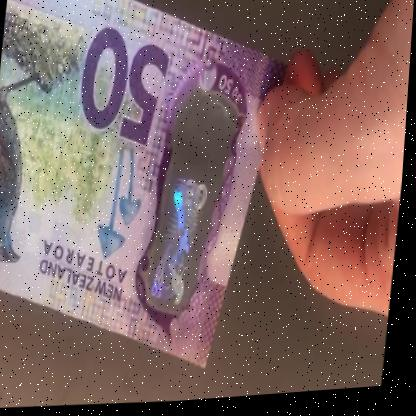50B: (153, 106, 223, 316)
